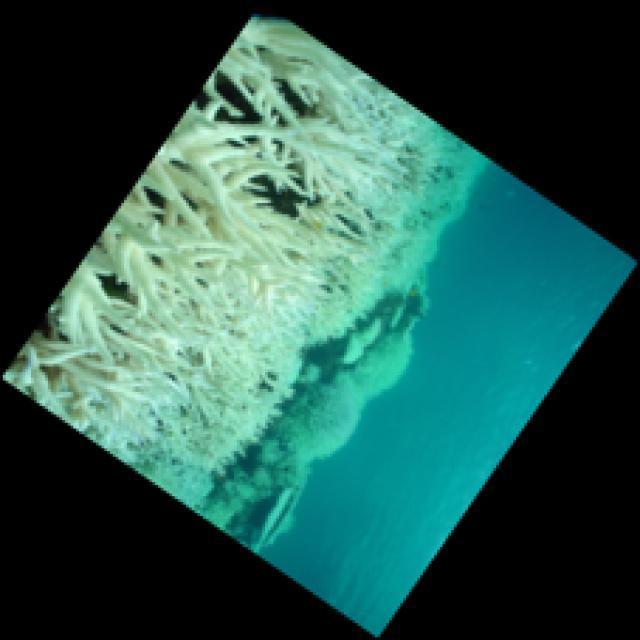Bleached: (1, 11, 486, 513), (283, 327, 413, 460)
